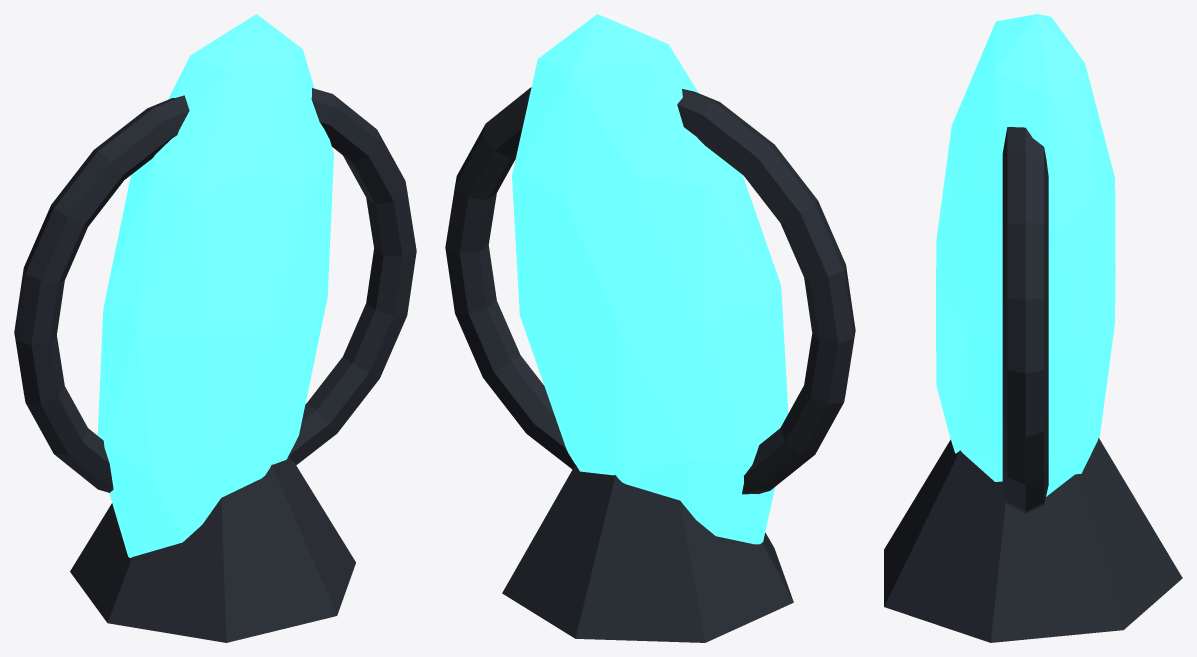
File: SoulShard.fbx
3 views of the same model, side by side, from view 1: azimuth 30°, elevation 25°; view 2: azimuth 150°, elevation 25°; view 3: azimuth 270°, elevation 25° (orthographic). The views are drawn at different scales.
Parts seen in each view (by area): view 1: SoulCrystal, SoulHalo, SoulBase; view 2: SoulCrystal, SoulHalo, SoulBase; view 3: SoulCrystal, SoulBase, SoulHalo.
Boxes of the visible parts, x1,y1,x2,y2 form: SoulCrystal: (97, 14, 333, 558); SoulHalo: (14, 88, 416, 492); SoulBase: (70, 456, 355, 642); SoulCrystal: (512, 14, 788, 544); SoulHalo: (445, 87, 855, 494); SoulBase: (502, 464, 793, 642); SoulCrystal: (936, 14, 1115, 496); SoulBase: (884, 438, 1182, 642); SoulHalo: (1002, 127, 1048, 513).
Bounding box in the file's own units: 0.376 × 0.496 × 0.2281.
